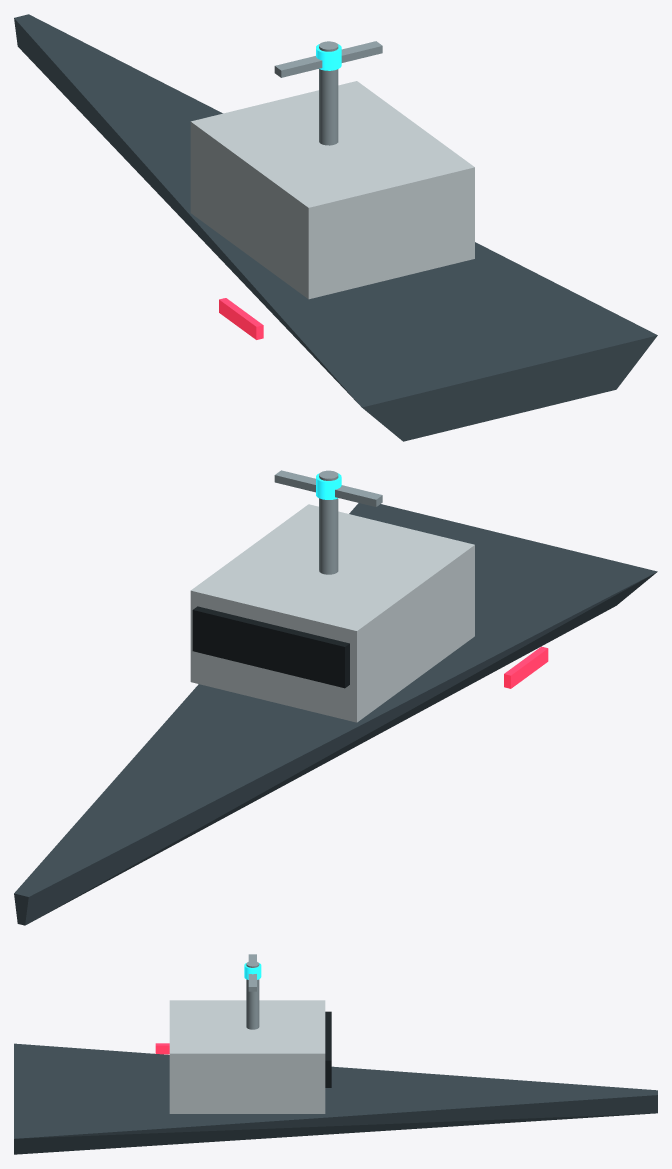
Rendered from marine.glb.
3 views of the same model, one above another, from view 1: azimuth 30°, elevation 25°; view 2: azimuth 150°, elevation 25°; view 3: azimuth 270°, elevation 25° (orthographic). The views are drawn at different scales.
Parts seen in each view (by area): view 1: marine-0, marine-1, marine-3, marine-4, marine-7; view 2: marine-0, marine-1, marine-2, marine-3, marine-4, marine-7; view 3: marine-0, marine-1, marine-3, marine-2.
Part boxes in pixels (x1,y1,x2,y2): marine-0: (14, 14, 657, 441); marine-1: (190, 81, 474, 299); marine-3: (319, 41, 338, 145); marine-4: (274, 41, 382, 77); marine-7: (219, 298, 263, 339); marine-0: (14, 503, 657, 925); marine-1: (190, 504, 474, 722); marine-2: (192, 606, 349, 688); marine-3: (319, 470, 338, 574); marine-4: (274, 470, 382, 506); marine-7: (504, 646, 548, 688); marine-0: (14, 1043, 657, 1154); marine-1: (169, 1000, 325, 1113); marine-3: (246, 961, 259, 1029); marine-2: (325, 1011, 331, 1087).
Bounding box in the file's own units: 4.2 × 3.22 × 12.
